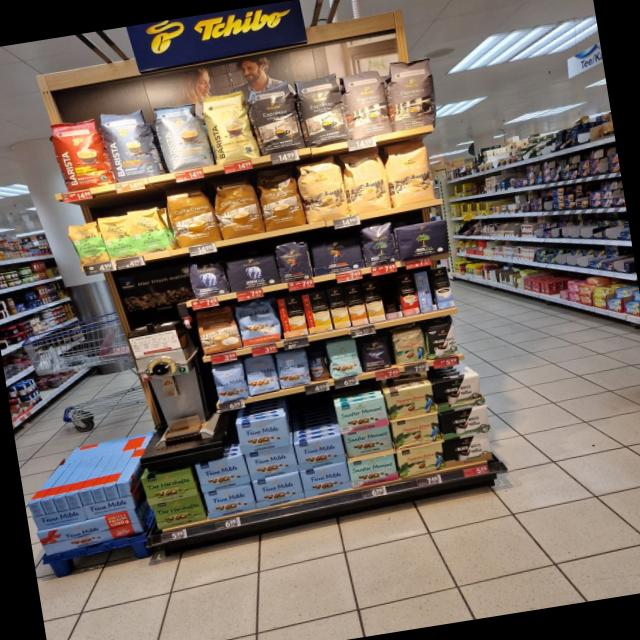AB Bohne: (188, 258, 230, 300)
AB Gemahlen: (227, 255, 280, 293)
Athiopien Bohne: (65, 219, 112, 268)
Athiopien Gemahlen: (127, 204, 174, 256), (96, 213, 140, 261)
BM Bohne: (358, 221, 399, 269)
BM Gemahlen: (394, 219, 452, 261)
BW Bohne: (424, 321, 460, 360)
BW Gemahlen: (433, 374, 485, 414), (440, 406, 493, 441), (442, 434, 494, 468)
Barista CB: (200, 88, 262, 166)
Barista CC: (153, 100, 214, 173)
Barista Espresso: (99, 106, 164, 184)
Barista Kolumbien: (47, 115, 117, 192)
C Fino Bohne: (359, 332, 393, 372)
CC Mild: (383, 138, 438, 208), (340, 148, 392, 216), (298, 157, 350, 224)
CC Vollmundig: (195, 305, 243, 355)
CC Vollmundig 36 Pads: (166, 186, 220, 249), (212, 179, 264, 240), (256, 172, 306, 232)
Colombia BB Bohne: (391, 328, 428, 367)
Colombia BB Gemahlen: (390, 413, 443, 451), (385, 384, 437, 420), (395, 444, 447, 479)
Empty Shelf: (378, 276, 402, 314)
Espresso Aromatisch: (385, 55, 441, 133), (340, 65, 395, 141)
Espresso S Art: (246, 78, 307, 156), (294, 70, 352, 148)
FM 36 Pads: (235, 298, 282, 346)
FM Bohne: (212, 362, 250, 406), (243, 353, 281, 396), (276, 348, 312, 389)
FM Gemahlen: (194, 454, 252, 492), (236, 415, 290, 454), (250, 472, 304, 509), (294, 434, 348, 471), (299, 462, 352, 499), (203, 484, 257, 520), (244, 446, 298, 480)
FM Instant: (308, 350, 332, 382)
Herzhatfe Mundig: (138, 466, 200, 506), (152, 496, 208, 530)
LG Bohne: (274, 239, 314, 284)
LG Gemahlen: (310, 232, 366, 276)
SM Bohne: (324, 337, 364, 380)
SM Gemahlen: (334, 397, 390, 434), (342, 426, 393, 458)
Simo CCMild: (302, 291, 333, 333)
Simo CCMild bigpack: (326, 287, 352, 329)
Simo CCVollmundig: (277, 295, 308, 338)
Simo CCVollmundig bigpack: (344, 284, 369, 326)
Simo Decaff: (361, 281, 386, 323)
Simo Es Brazil: (397, 274, 421, 316)
Simo Es Vanilla: (430, 266, 455, 309)
